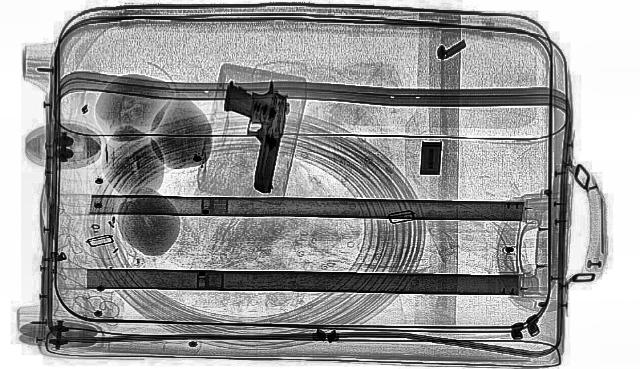Gun: (200, 84, 294, 192)
